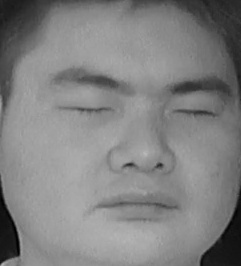blink: (56, 93, 116, 129), (170, 98, 217, 130)
mouth: (95, 181, 186, 229)
